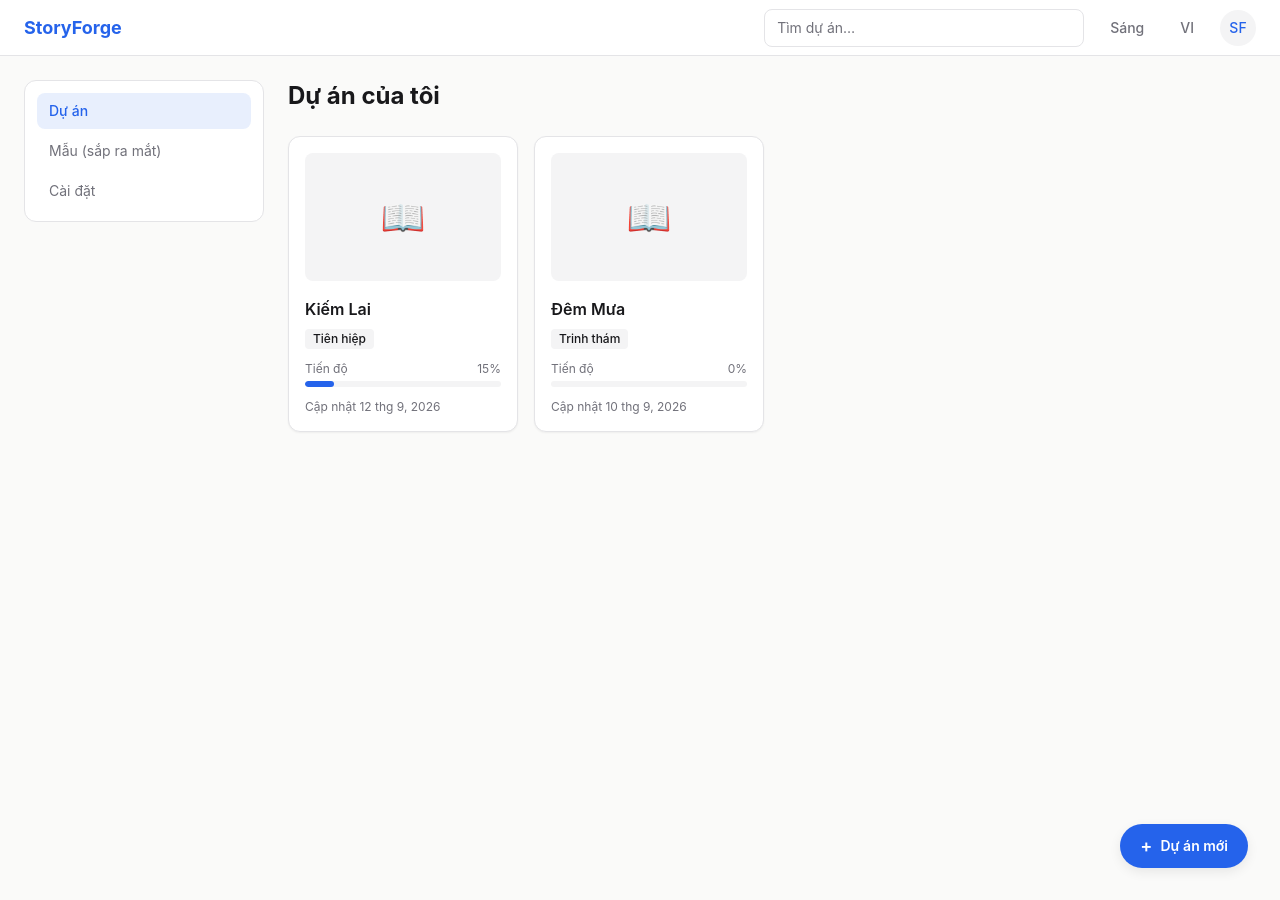
Test: DashboardPage › shows filtered empty and clears search
The image size is (1280, 900).
Expected: the text "Kiếm Lai" is shown, left=305, top=299, right=371, bottom=319
Step 1. Type "xyz-not-found" into the search field → (924, 28), box left=764, top=8, right=1084, bottom=46
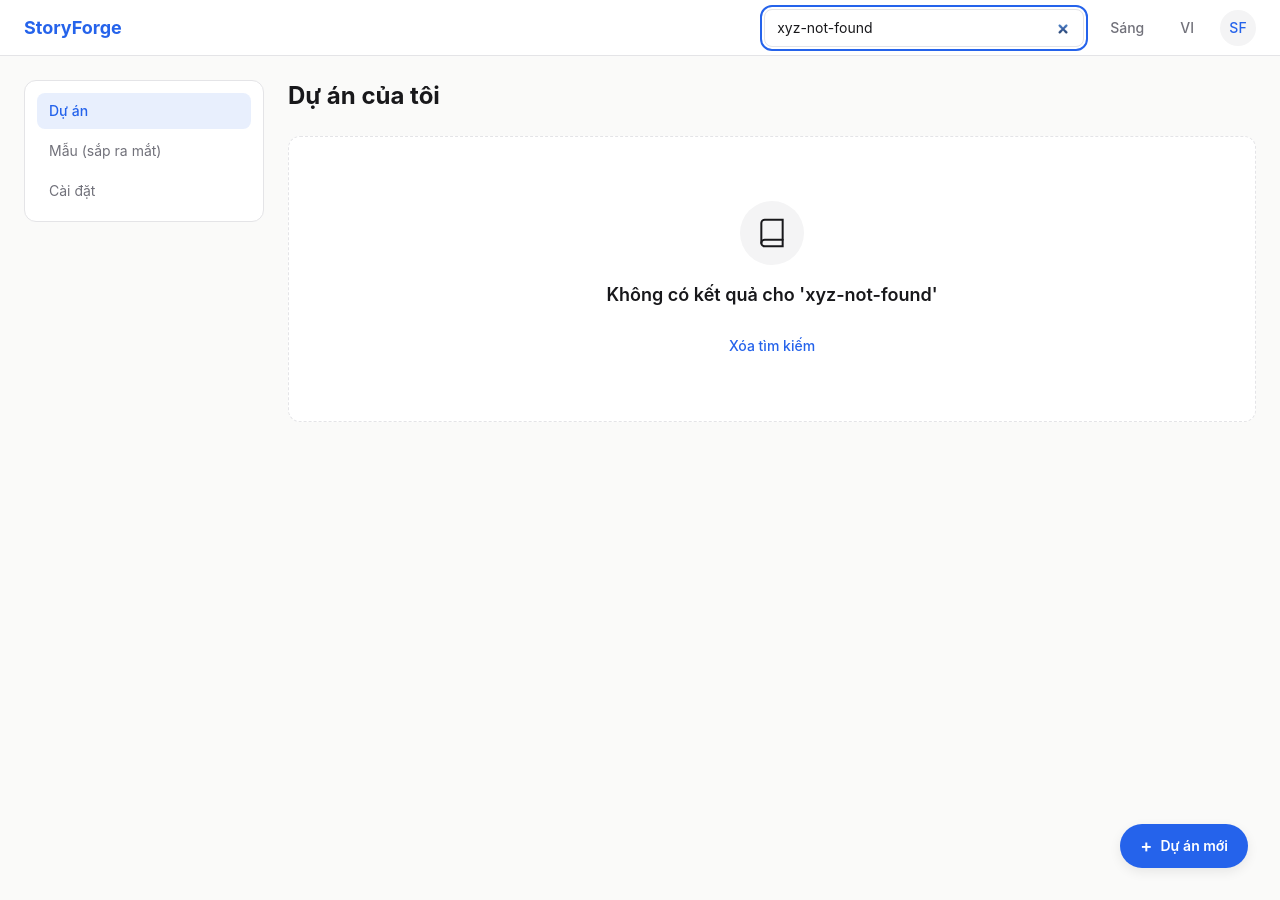
Expected: the heading "Không có kết quả cho 'xyz-not-found'" is shown, left=606, top=281, right=938, bottom=309
Step 2. Click the button "Xóa tìm kiếm" → (772, 346), box left=729, top=336, right=815, bottom=356
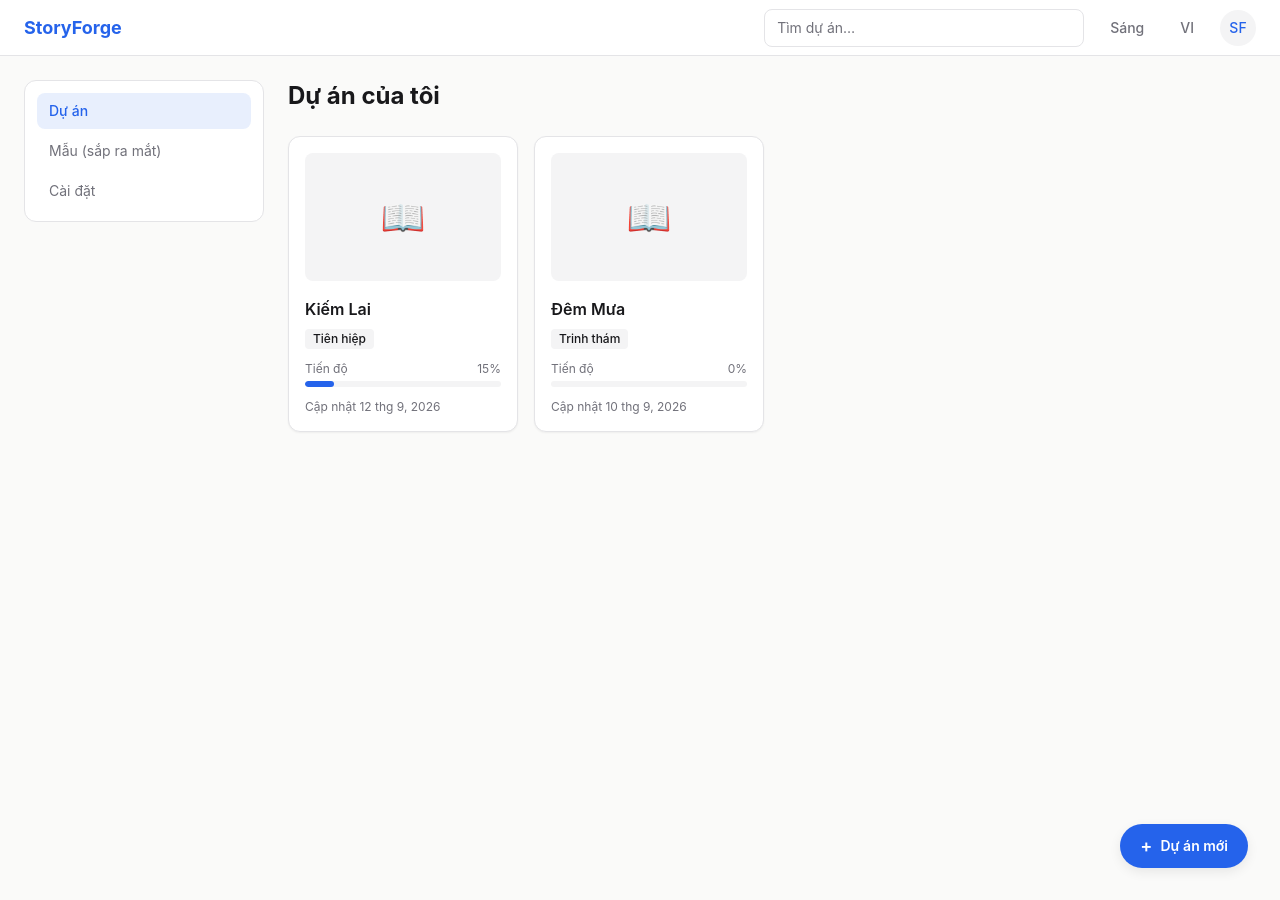
Expected: the text "Kiếm Lai" is shown, left=305, top=299, right=371, bottom=319
